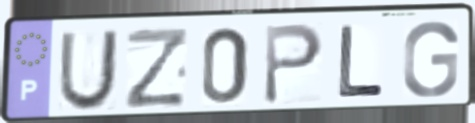0: (199, 24, 252, 109)
G: (400, 18, 461, 100)
L: (336, 23, 387, 101)
P: (261, 21, 326, 107)
U: (55, 28, 122, 114)
Z: (123, 26, 191, 112)
